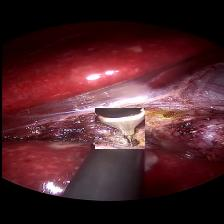Hook: (93, 108, 144, 149)
